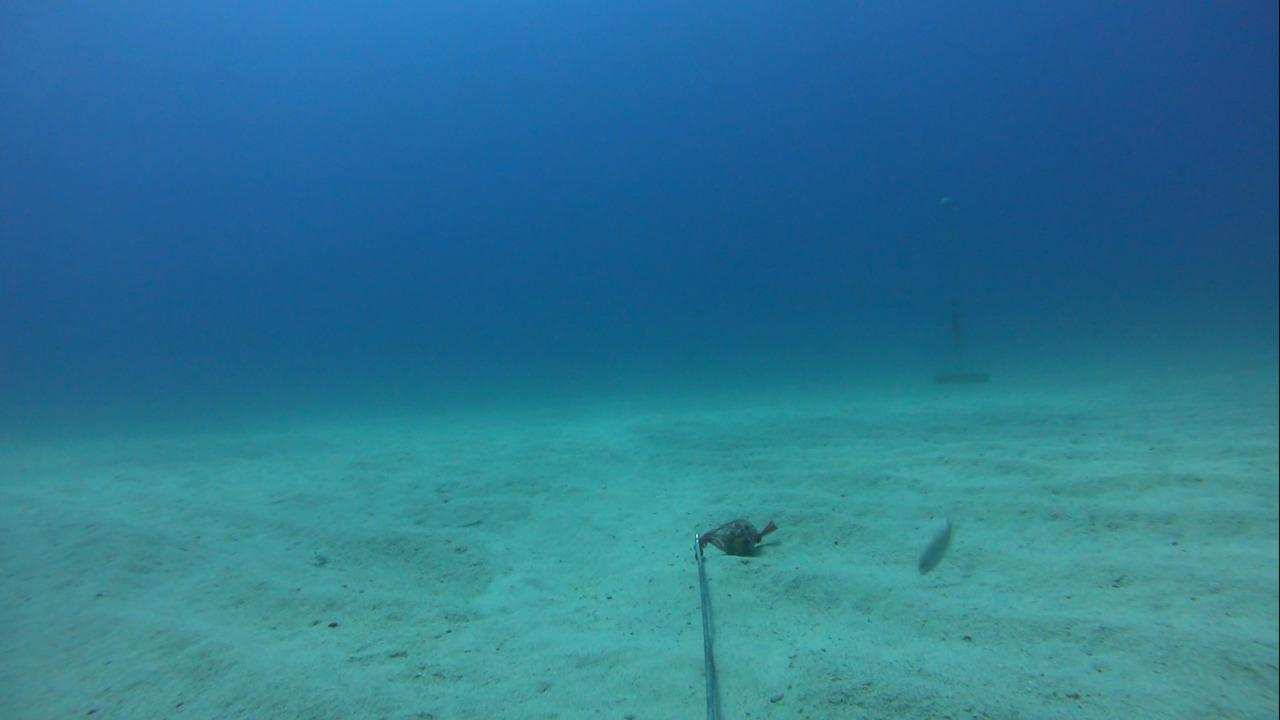raor: (908, 512, 962, 581)
